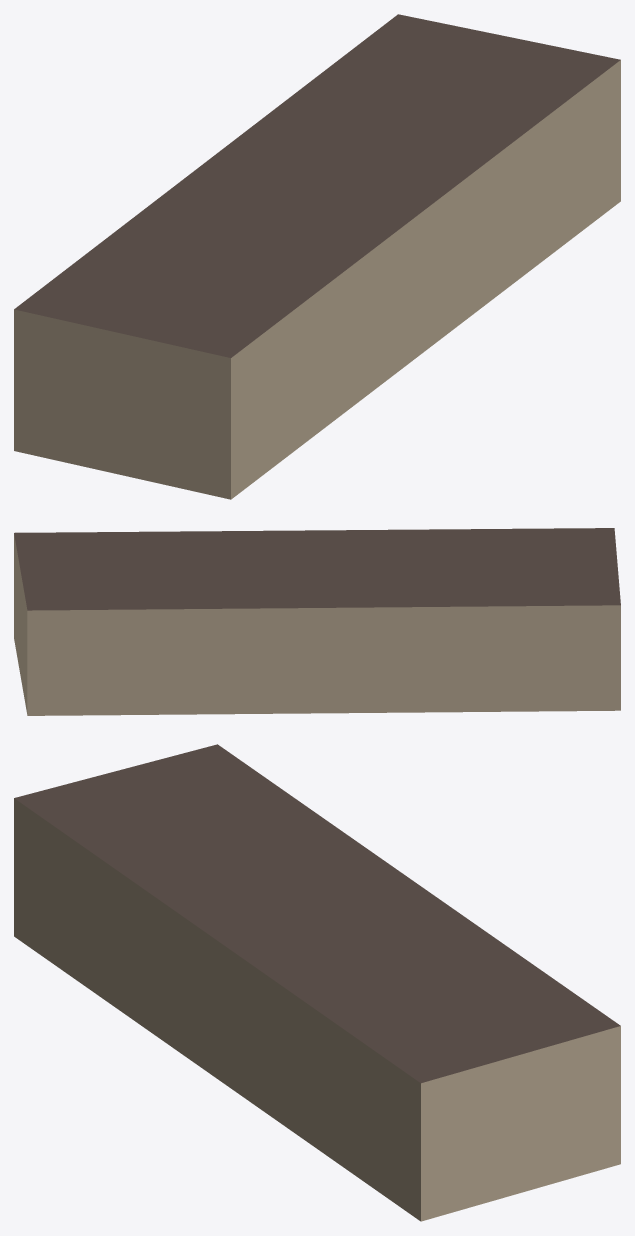
The picture shows the model from 3 angles, top to bottom: view 1: azimuth 30°, elevation 25°; view 2: azimuth 150°, elevation 25°; view 3: azimuth 270°, elevation 25°; orthographic projection. The views are drawn at different scales.
Parts seen in each view (by area): view 1: HP-w1197065285; view 2: HP-w1197065285; view 3: HP-w1197065285.
Part boxes in pixels (left/top/right/bottom): HP-w1197065285: left=14, top=14, right=620, bottom=499; HP-w1197065285: left=14, top=528, right=620, bottom=715; HP-w1197065285: left=14, top=744, right=620, bottom=1221.
Bounding box in the file's own units: 47.3 × 9 × 35.79.
